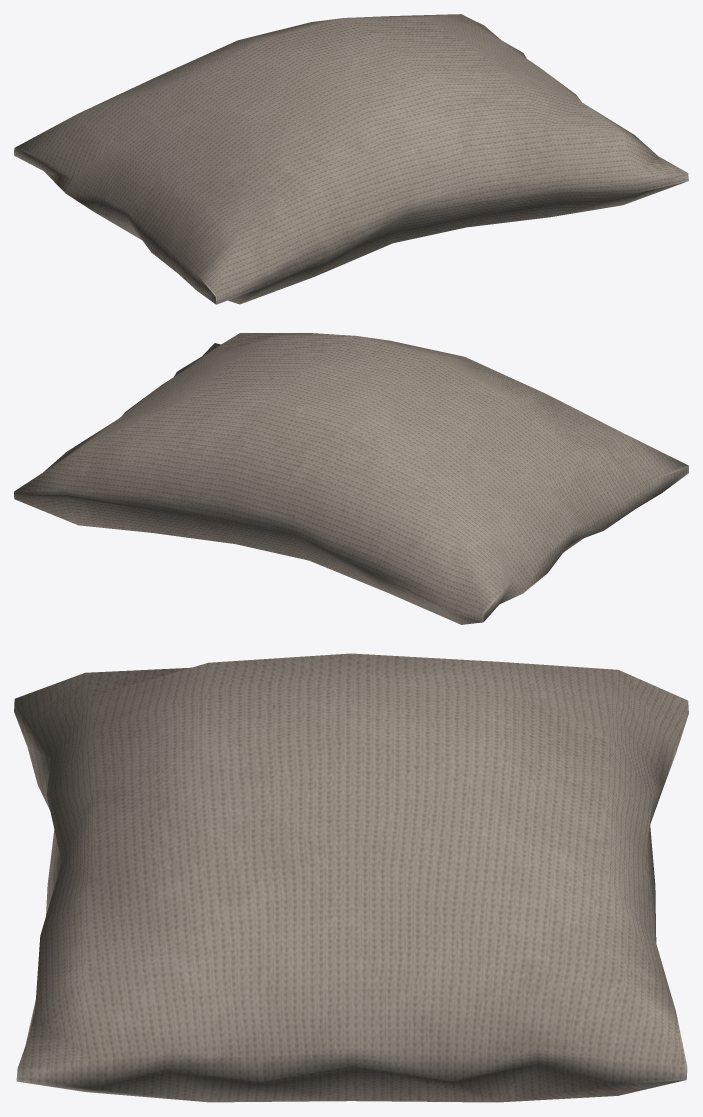
3 views of the same model, one above another, from view 1: azimuth 30°, elevation 25°; view 2: azimuth 150°, elevation 25°; view 3: azimuth 270°, elevation 25° (orthographic). The views are drawn at different scales.
Parts seen in each view (by area): view 1: submesh_0; view 2: submesh_0; view 3: submesh_0.
Part boxes in pixels (x1,y1,x2,y2): submesh_0: (14, 14, 688, 304); submesh_0: (14, 333, 688, 624); submesh_0: (14, 653, 688, 1102).
Bounding box in the file's own units: 1.02 × 0.3375 × 0.7632.
Materials: 1 (1 with a texture image).
